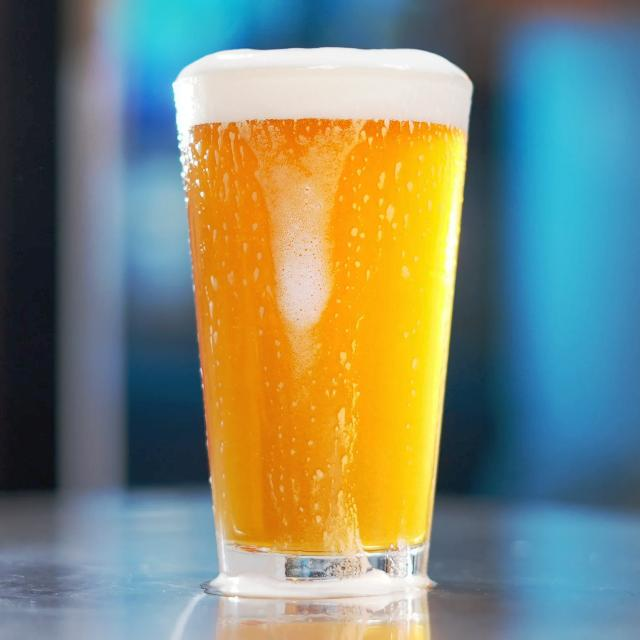drink: (170, 45, 474, 600)
